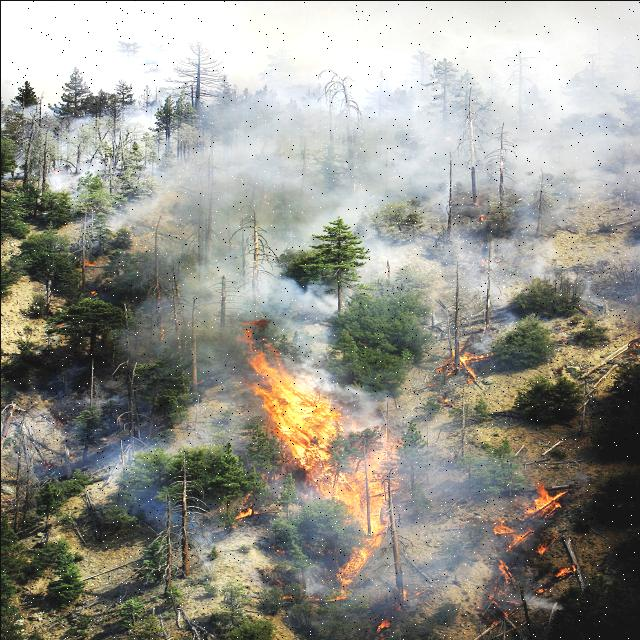api: (226, 312, 418, 608), (474, 465, 588, 601)
asap: (53, 1, 640, 260), (108, 264, 416, 434)
